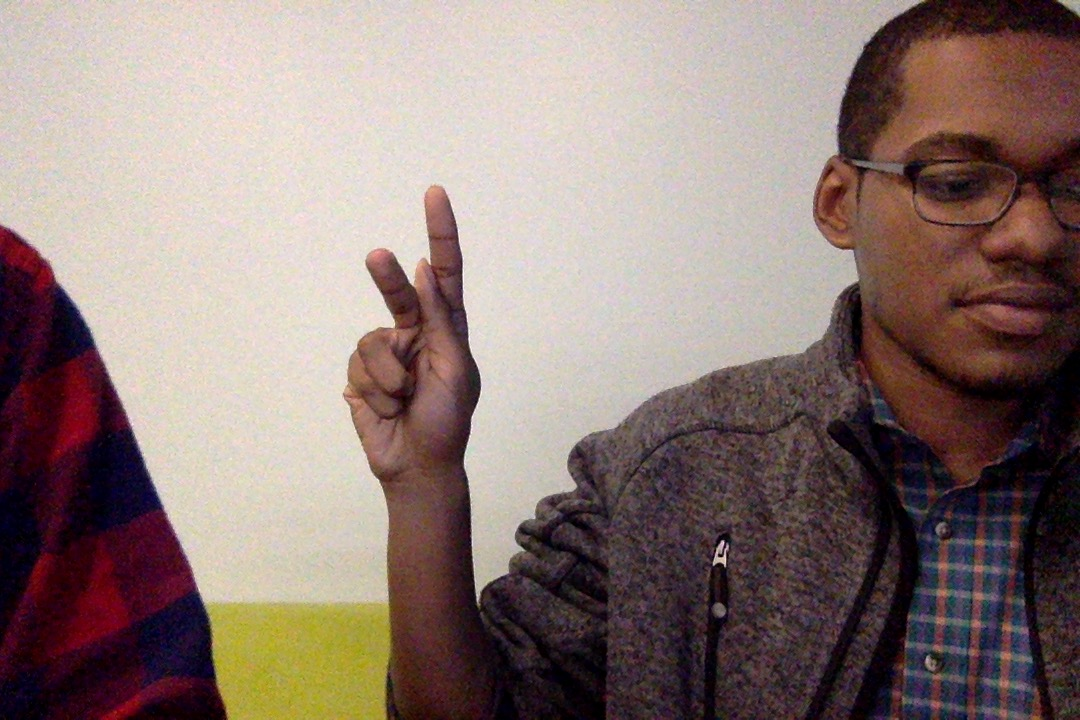k: (335, 181, 516, 524)
